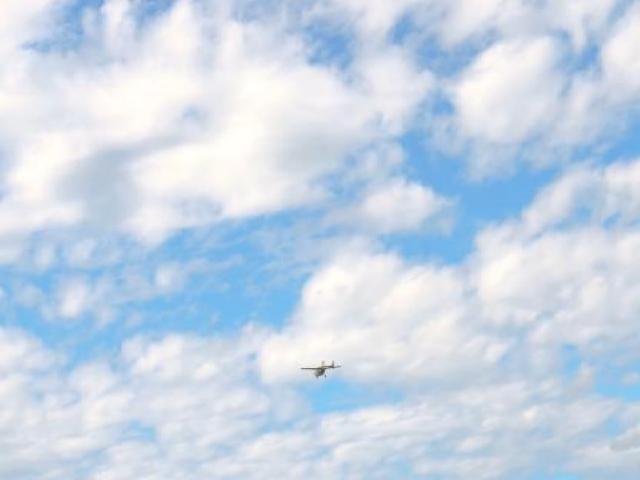uav: (299, 359, 341, 377)
